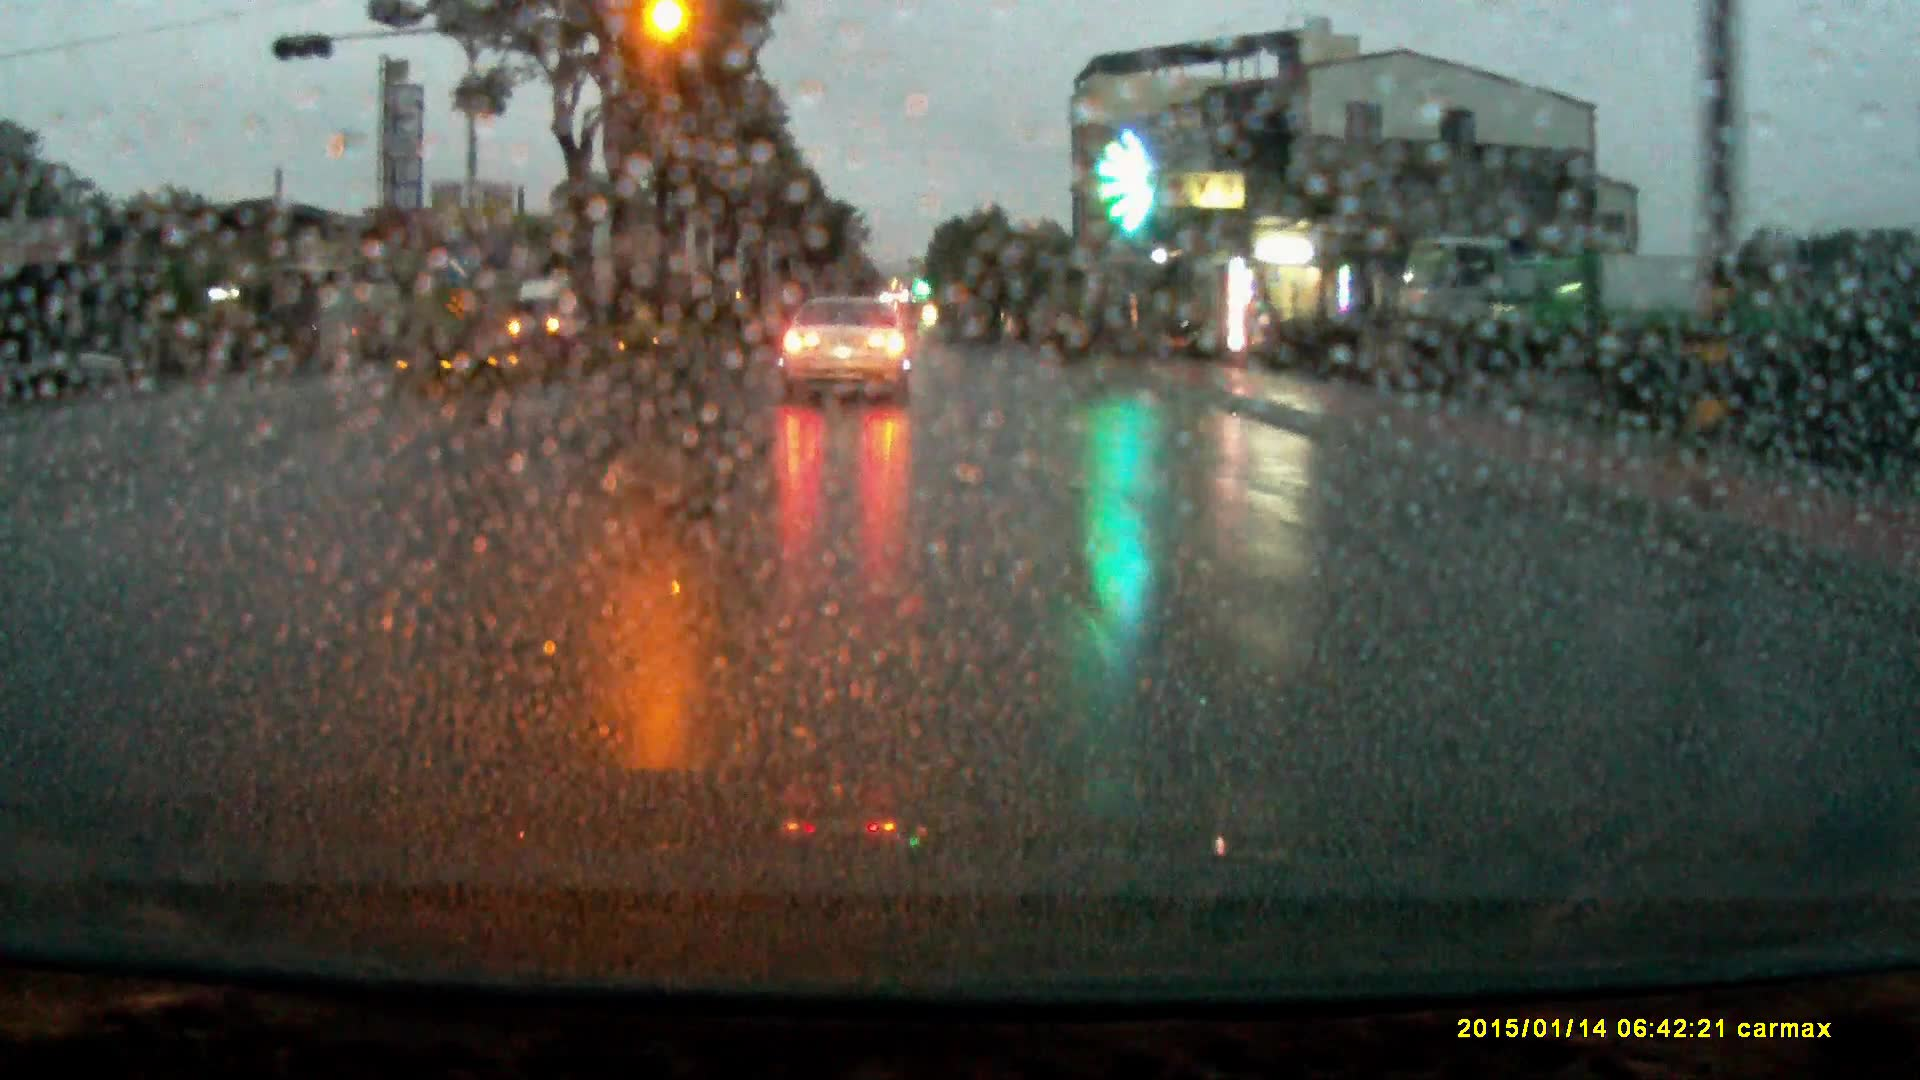vehicle: (1486, 253, 1716, 357), (777, 294, 916, 404), (1407, 229, 1519, 360), (509, 277, 585, 352)
